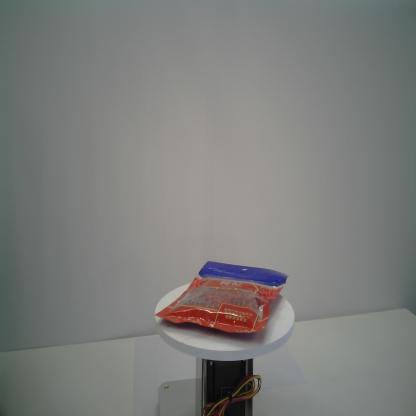Dried Fruit: (153, 260, 291, 335)
